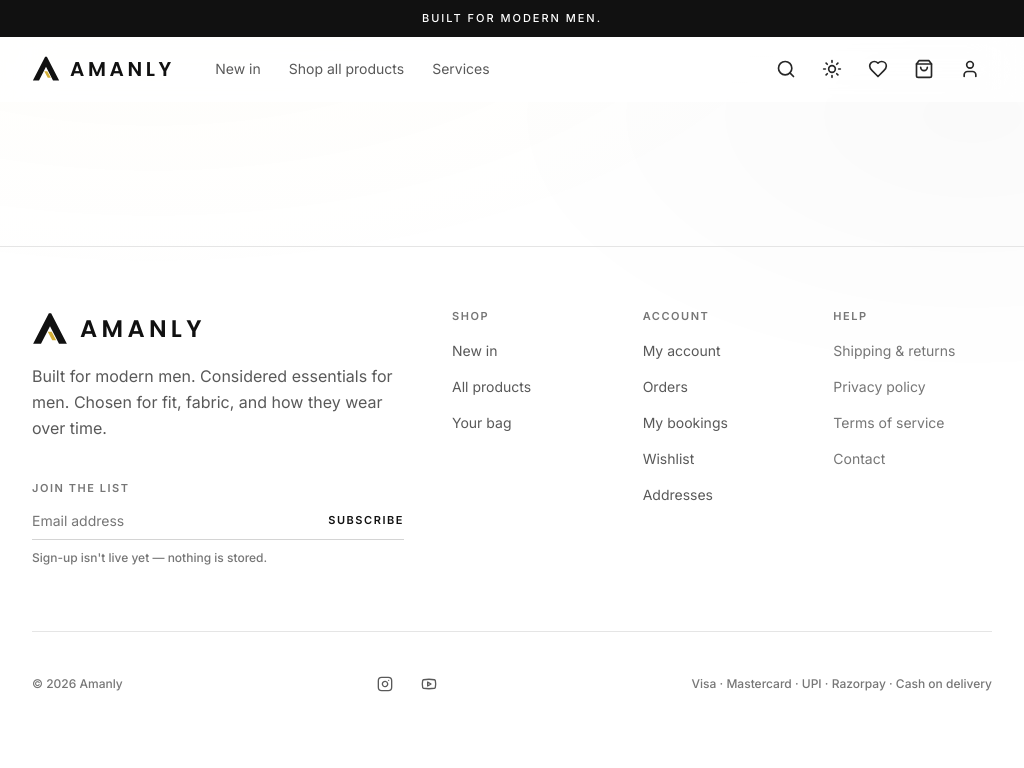
Storefront account menu › drops Settings for staff and admins too
Click the button named "Account menu" at (970, 68), box [948,46,992,90]
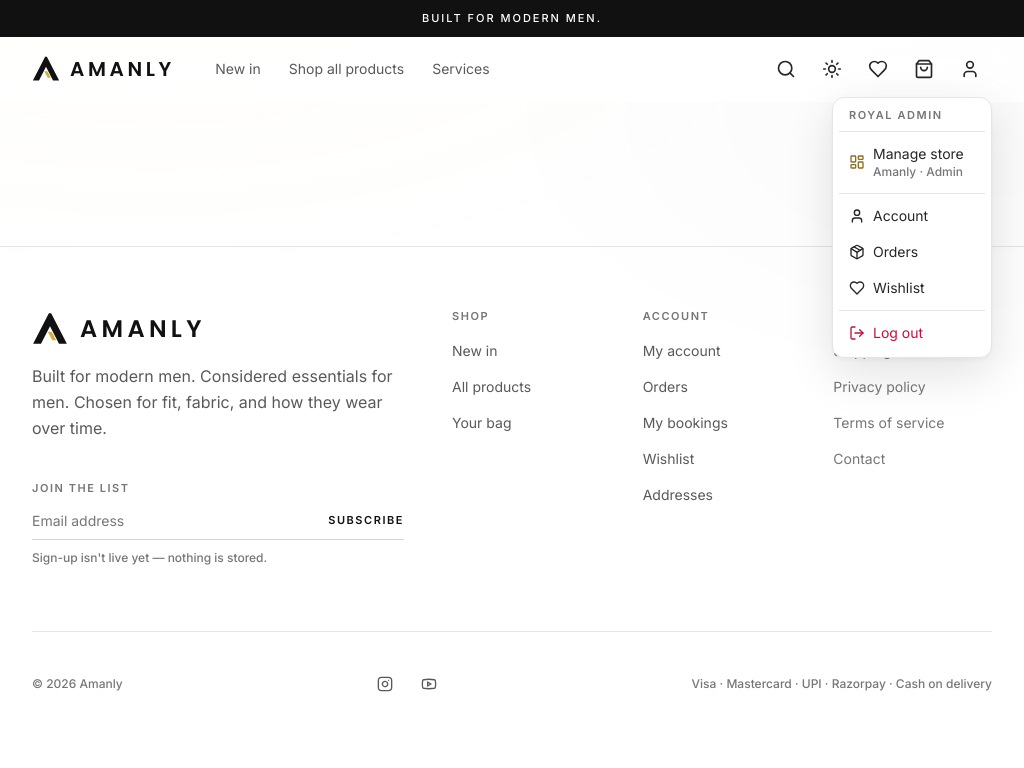
Now the menu item "Manage store Amanly · Admin" is shown, box [849,145,964,179]
